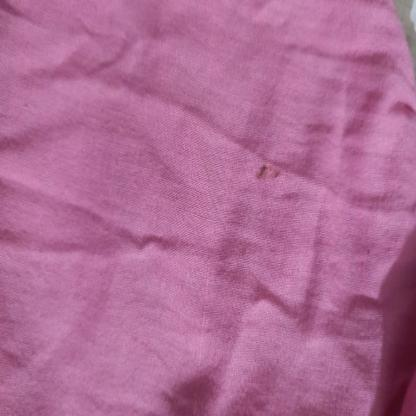spot: (255, 156, 286, 187)
